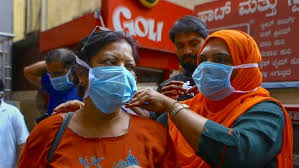masked: (74, 37, 140, 115), (193, 37, 264, 101), (45, 51, 75, 93)
